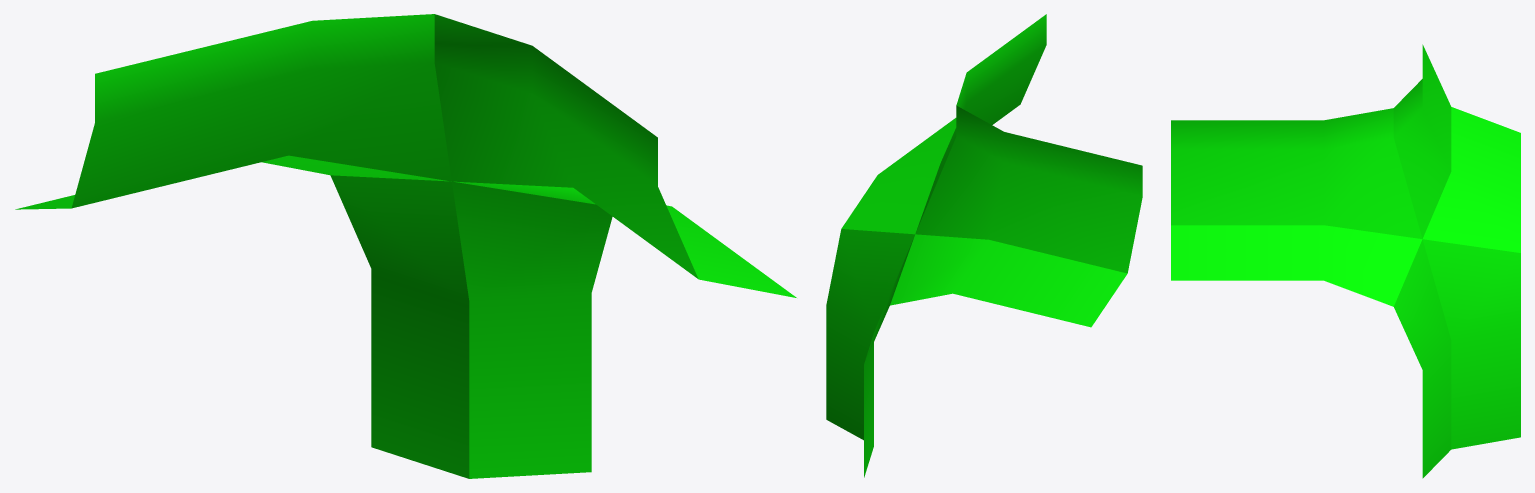
3 renders of one model, left to right at view 1: azimuth 30°, elevation 25°; view 2: azimuth 150°, elevation 25°; view 3: azimuth 270°, elevation 25°, orthographic. The views are drawn at different scales.
Visible parts, largest first — view 1: None_E_G_E_E_G_G_E_G_None; view 2: None_E_G_E_E_G_G_E_G_None; view 3: None_E_G_E_E_G_G_E_G_None.
Part boxes in pixels (left/top/right/bottom): None_E_G_E_E_G_G_E_G_None: left=15, top=14, right=796, bottom=478; None_E_G_E_E_G_G_E_G_None: left=826, top=14, right=1142, bottom=477; None_E_G_E_E_G_G_E_G_None: left=1171, top=44, right=1520, bottom=478.
Bounding box in the file's own units: 100 × 100 × 100.
